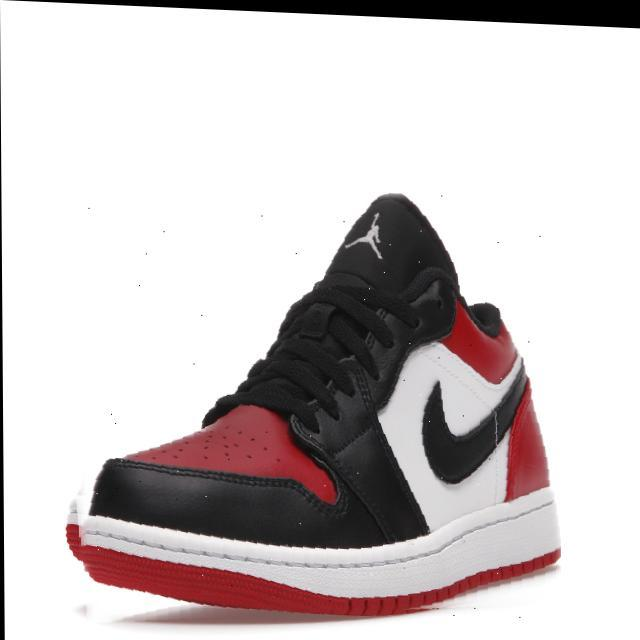J1_InsoleChar: (64, 190, 563, 619)
J1_ShoeLogo: (343, 209, 385, 260)
J1_StitchPattern: (202, 194, 460, 537), (65, 487, 562, 614), (202, 262, 454, 430), (264, 286, 401, 414), (417, 356, 530, 485), (107, 453, 333, 514), (312, 263, 453, 357), (271, 317, 361, 401), (310, 280, 399, 352)
